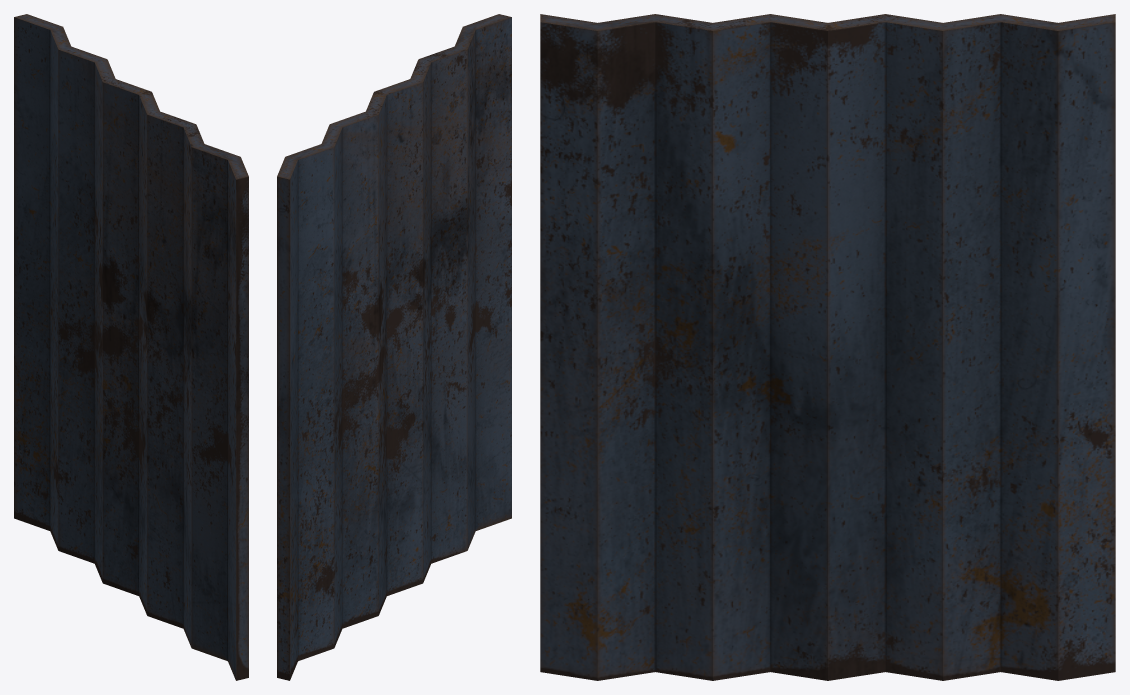
The model's file is metal_sheet.glb.
The picture shows the model from 3 angles, left to right: view 1: azimuth 30°, elevation 25°; view 2: azimuth 150°, elevation 25°; view 3: azimuth 270°, elevation 25°; orthographic projection. The views are drawn at different scales.
Parts seen in each view (by area): view 1: iso_PR_Sheet; view 2: iso_PR_Sheet; view 3: iso_PR_Sheet.
Boxes of the visible parts, x1,y1,x2,y2 form: iso_PR_Sheet: (14,14,248,680); iso_PR_Sheet: (277,14,511,680); iso_PR_Sheet: (540,14,1115,680).
Size of the model in its own units: 0.0755 by 1.34 by 1.08.
Materials: 1 (1 with a texture image).
